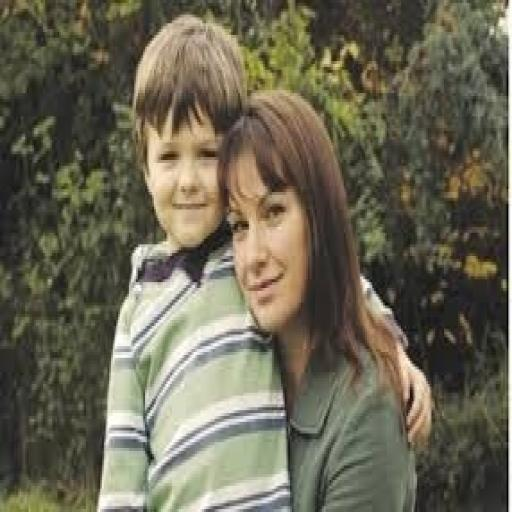hugging: (93, 12, 432, 509)
